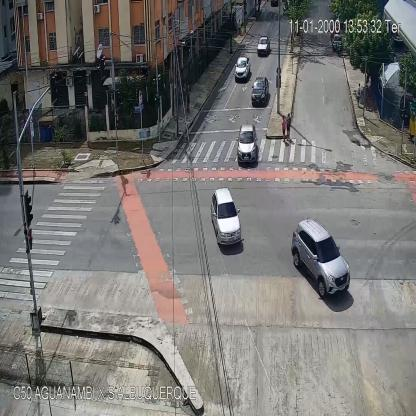car: (291, 218, 351, 296), (211, 188, 244, 246), (237, 125, 258, 165), (252, 78, 270, 105), (235, 57, 250, 80), (258, 36, 271, 56), (332, 35, 342, 50)
motorbike: (336, 40, 339, 53)
person: (285, 113, 292, 140), (281, 115, 286, 143), (186, 85, 191, 112), (365, 82, 369, 108), (356, 83, 360, 107), (183, 83, 186, 111), (234, 20, 238, 37), (238, 20, 241, 36)
